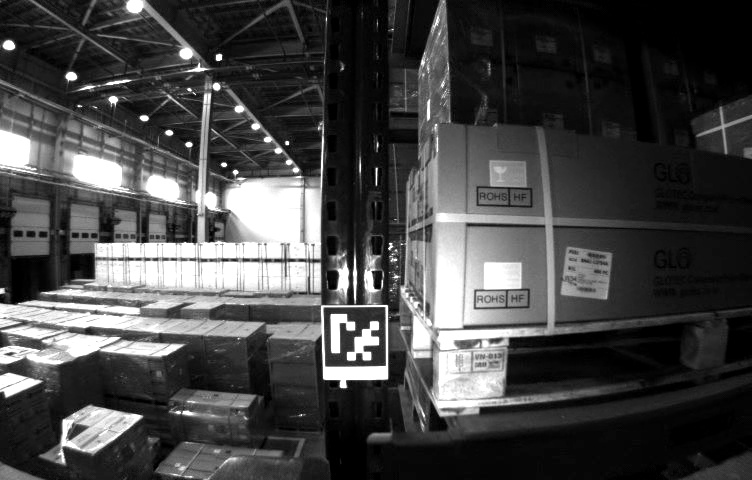True Barcode: (563, 248, 611, 304)
